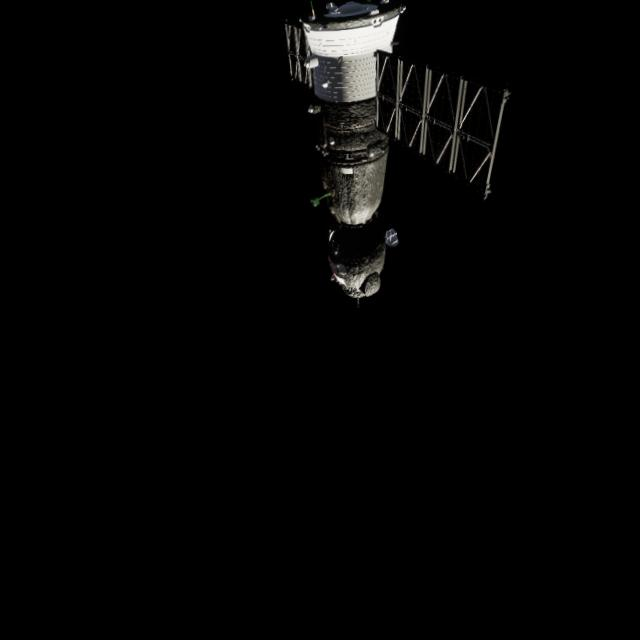Satellites revolving around earth: (280, 0, 515, 306)
